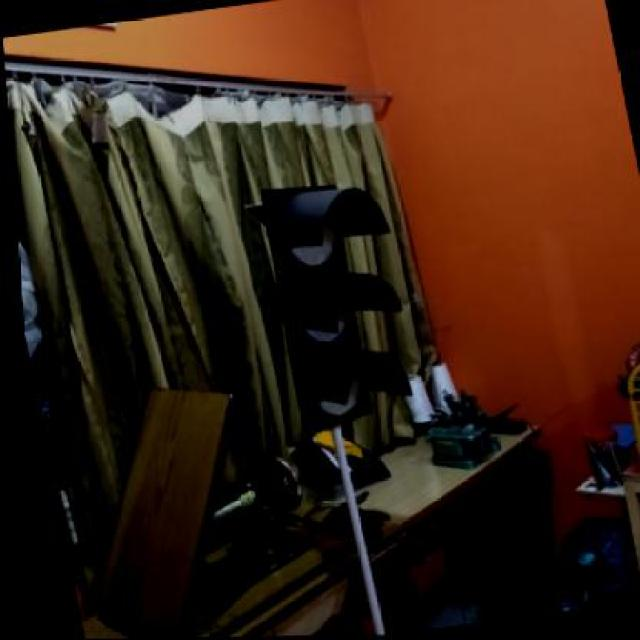green_light: (253, 174, 415, 431)
